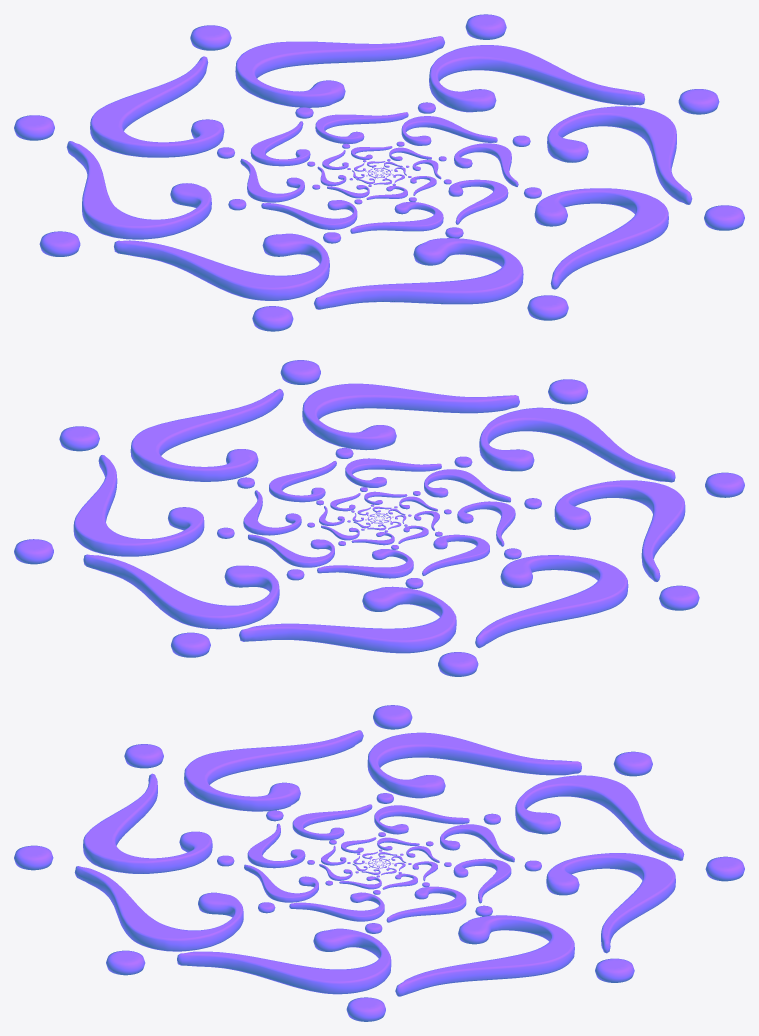
Rendered from conundrum2.fbx.
The picture shows the model from 3 angles, top to bottom: view 1: azimuth 30°, elevation 25°; view 2: azimuth 150°, elevation 25°; view 3: azimuth 270°, elevation 25°; orthographic projection. The views are drawn at different scales.
Parts seen in each view (by area): view 1: Text45339; view 2: Text45339; view 3: Text45339.
Boxes of the visible parts, box(x1,y1,x2,y2) form: Text45339: box(14, 14, 744, 331); Text45339: box(14, 360, 744, 676); Text45339: box(14, 705, 744, 1021).
Bounding box in the file's own units: 14782 × 273 × 14782.
